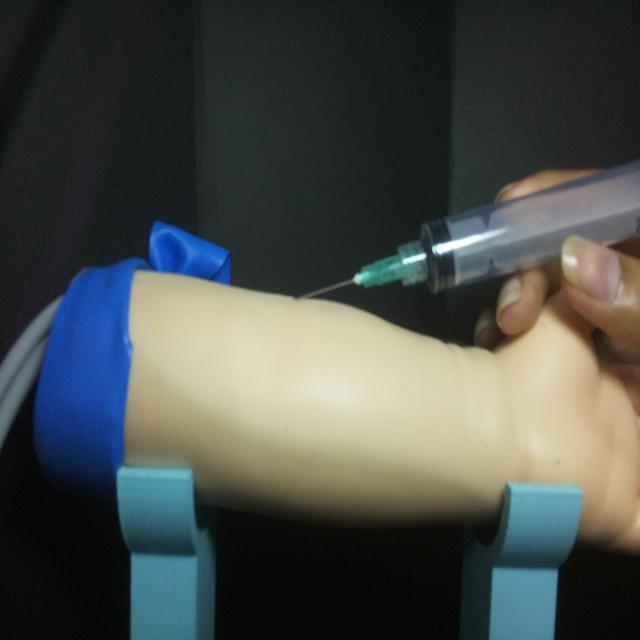15deg: (295, 155, 638, 305)
